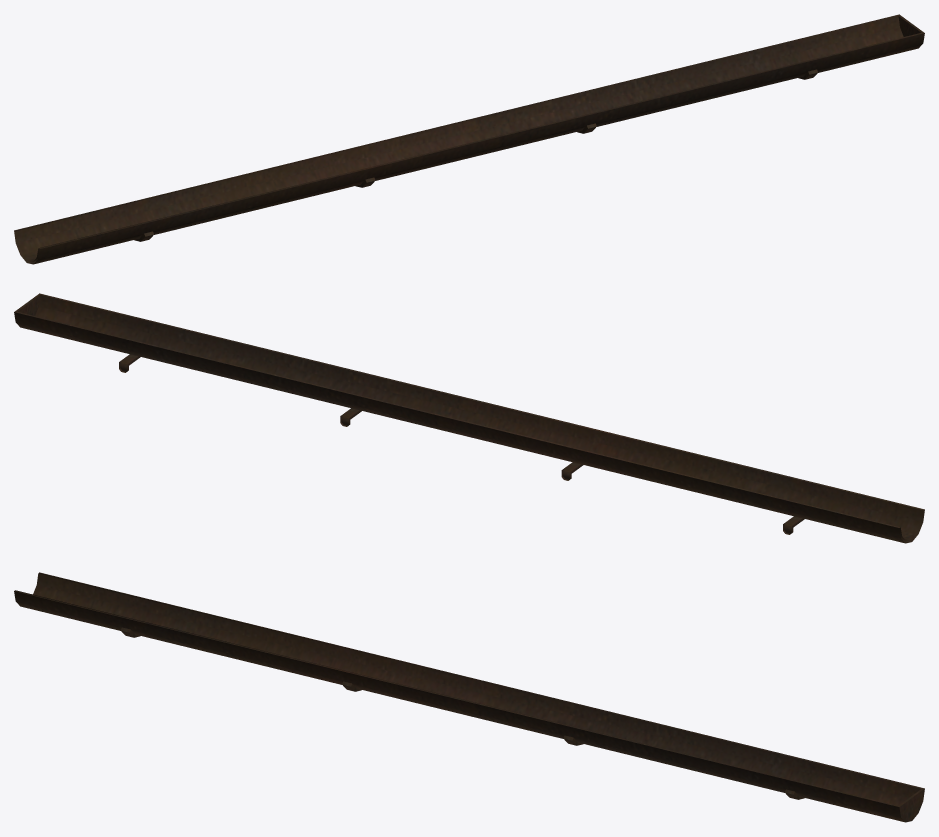
The model's file is rainwater_pipe_hl_1_end_1.obj.
The picture shows the model from 3 angles, top to bottom: view 1: azimuth 30°, elevation 25°; view 2: azimuth 150°, elevation 25°; view 3: azimuth 330°, elevation 25°; orthographic projection.
Parts seen in each view (by area): view 1: rainwater_pipe_hl_1_end_1; view 2: rainwater_pipe_hl_1_end_1; view 3: rainwater_pipe_hl_1_end_1.
Boxes of the visible parts, box(x1,y1,x2,y2) form: rainwater_pipe_hl_1_end_1: box(14, 14, 924, 264); rainwater_pipe_hl_1_end_1: box(14, 293, 924, 543); rainwater_pipe_hl_1_end_1: box(14, 572, 924, 822).
Size of the model in its own units: 4 by 0.14 by 0.21.
